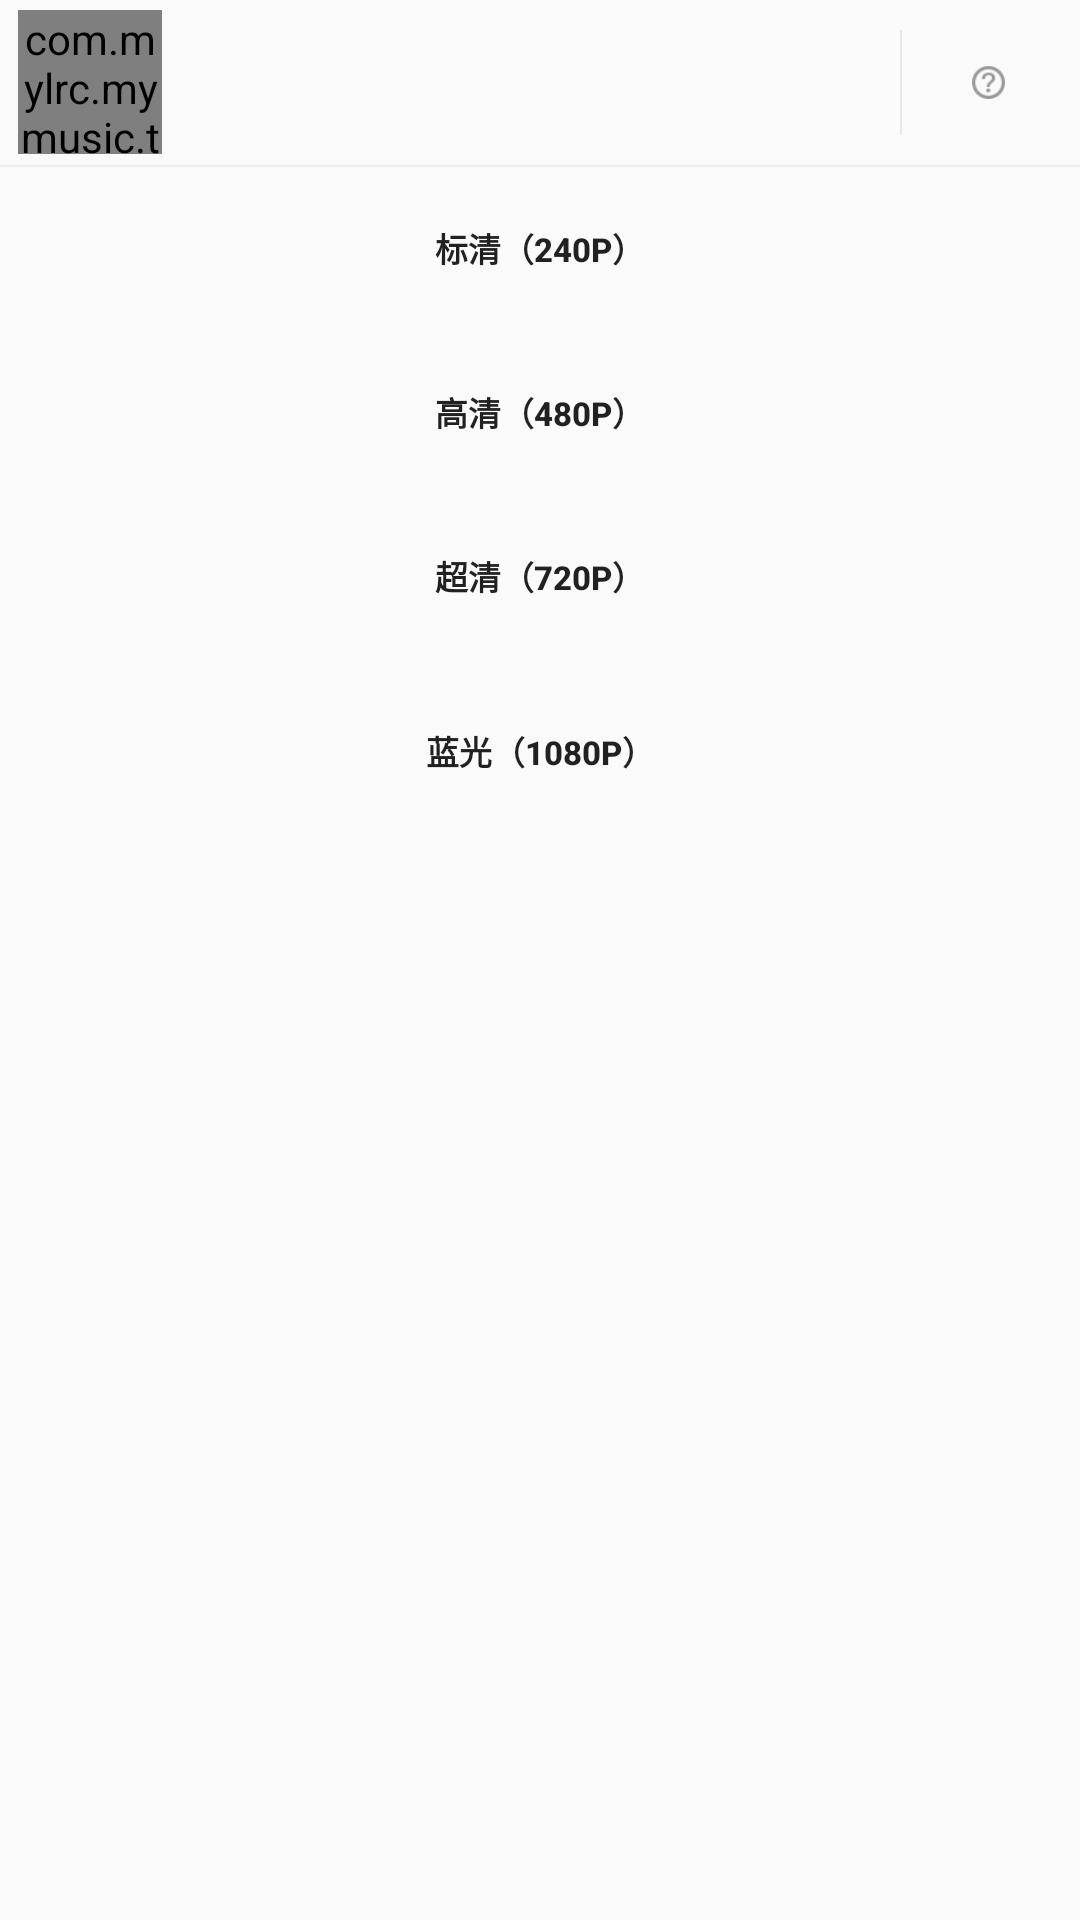

Icons on this 1080px x 1920px Android screen, each with its box as (x1, y1, x2, y2):
quest: (972, 66, 1005, 99)
